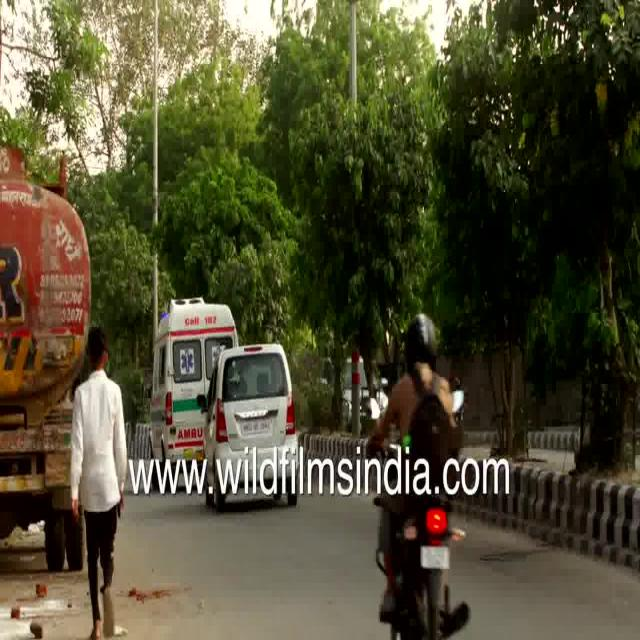ambulance: (137, 294, 254, 452)
